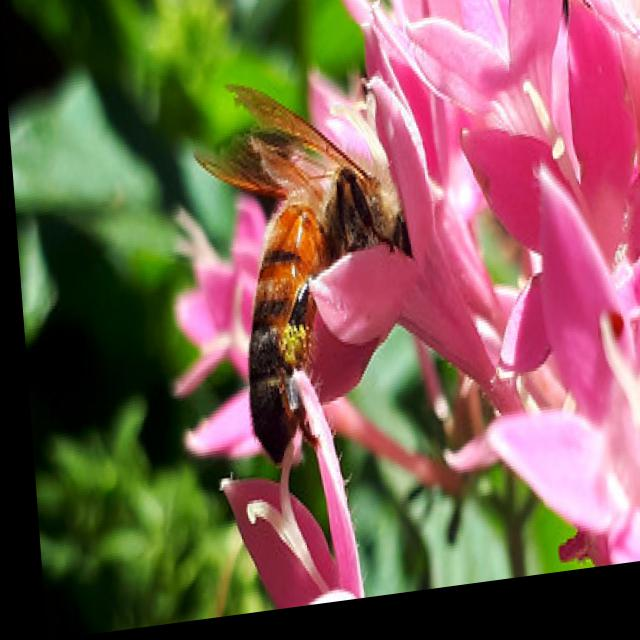Abeille: (159, 34, 441, 487)
